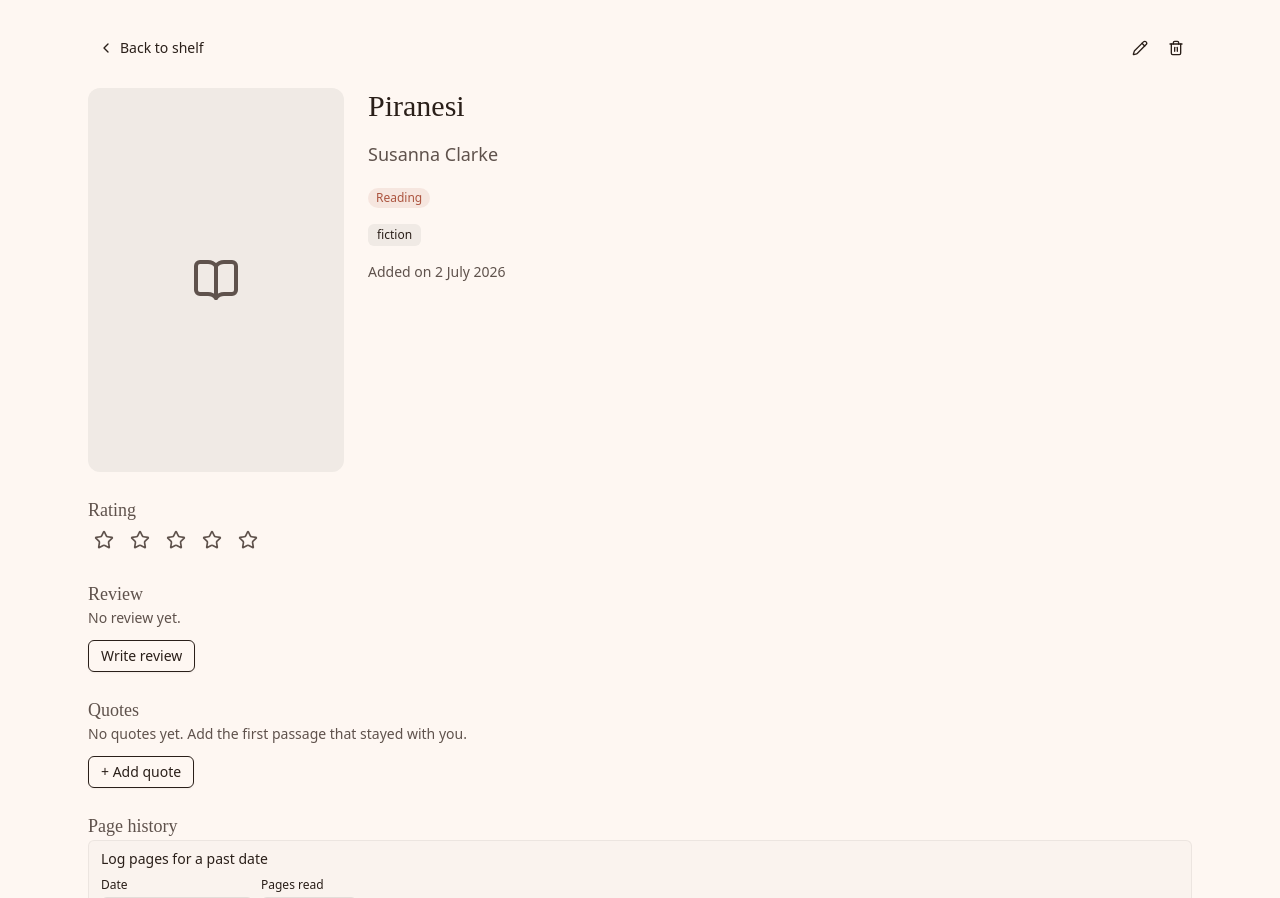
Test: BookDetail › quotes section (spec 009) › clicking the section's + Add quote button opens the QuoteDialog
What coordinates should you click on to do the following:
click the button with test id "add-quote-button"
I would click on:
 (141, 772)
Its box is [88,756,194,788].
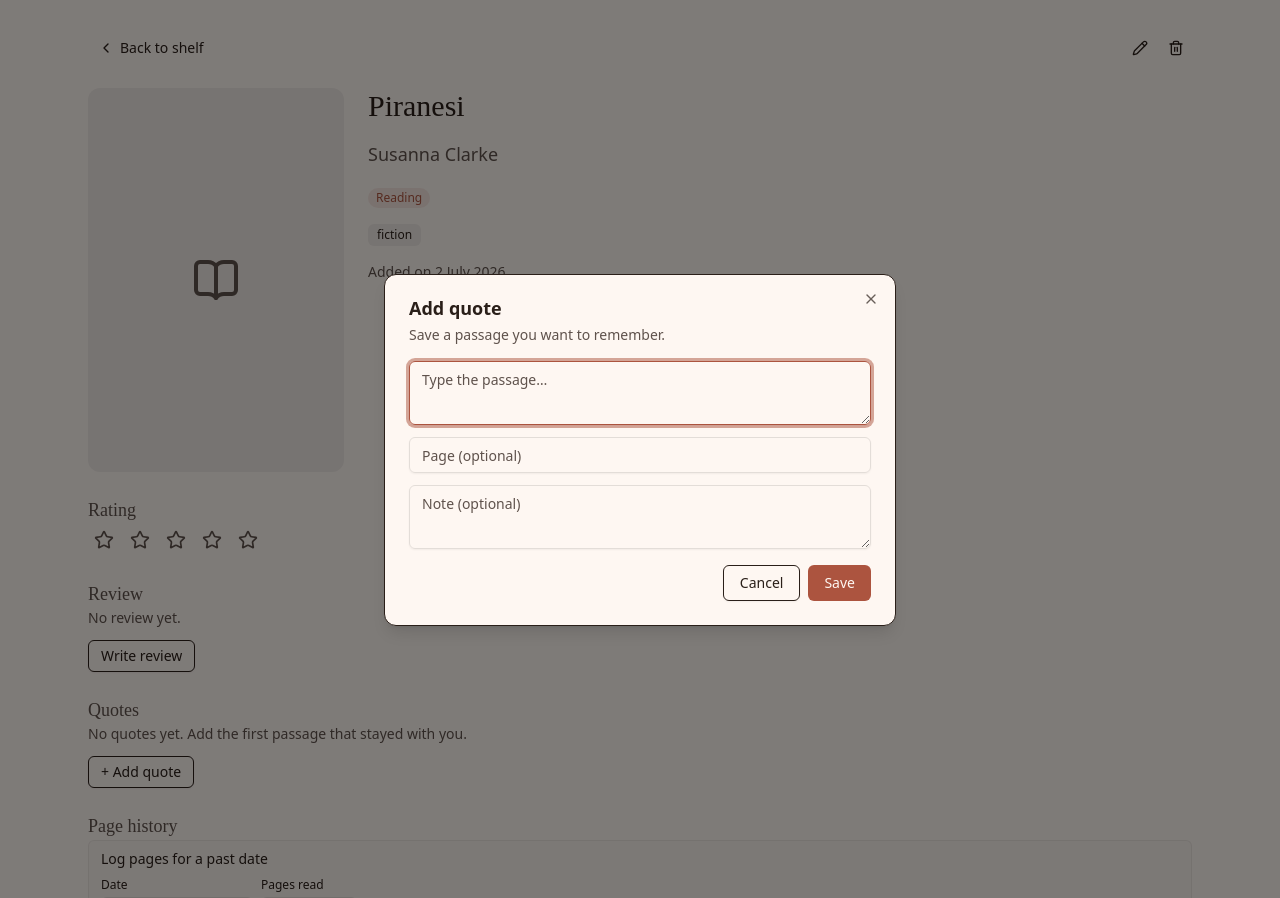
Expected: the heading "Add quote" is shown, [409,296,502,320]
Expected: the text box named "Quote" is empty, [409,361,871,425]
Expected: the number field labelled "Page (optional)" is empty, [409,437,871,473]
